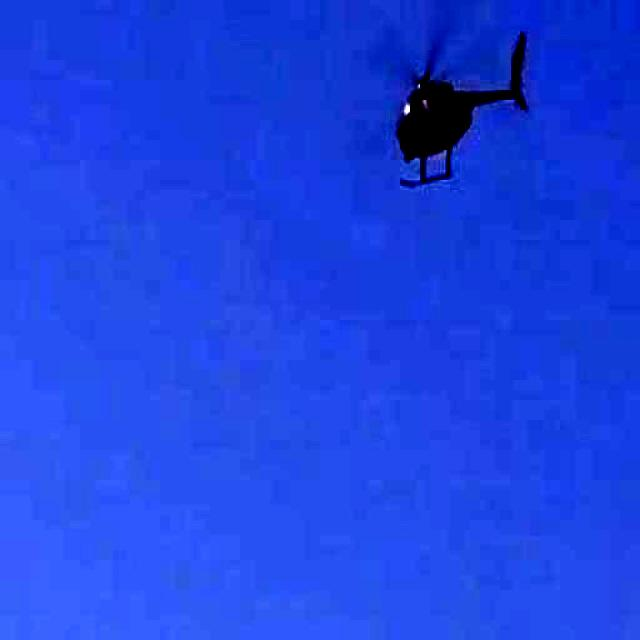drone: (331, 0, 552, 235)
